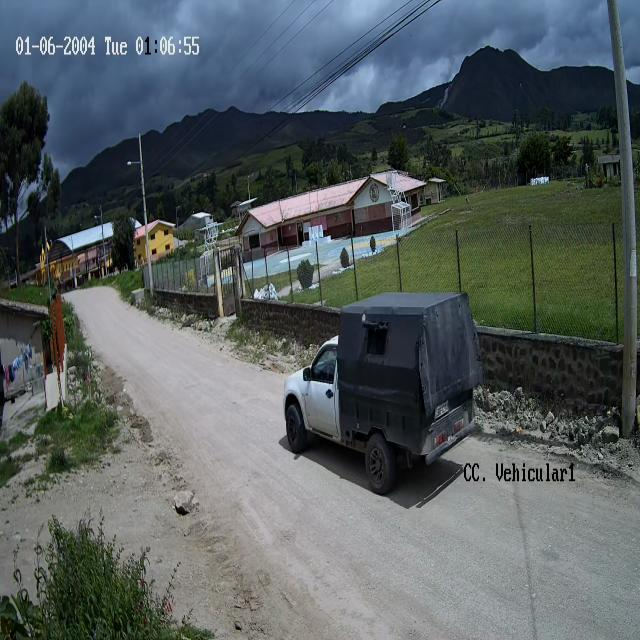CMT: (283, 297, 484, 497)
